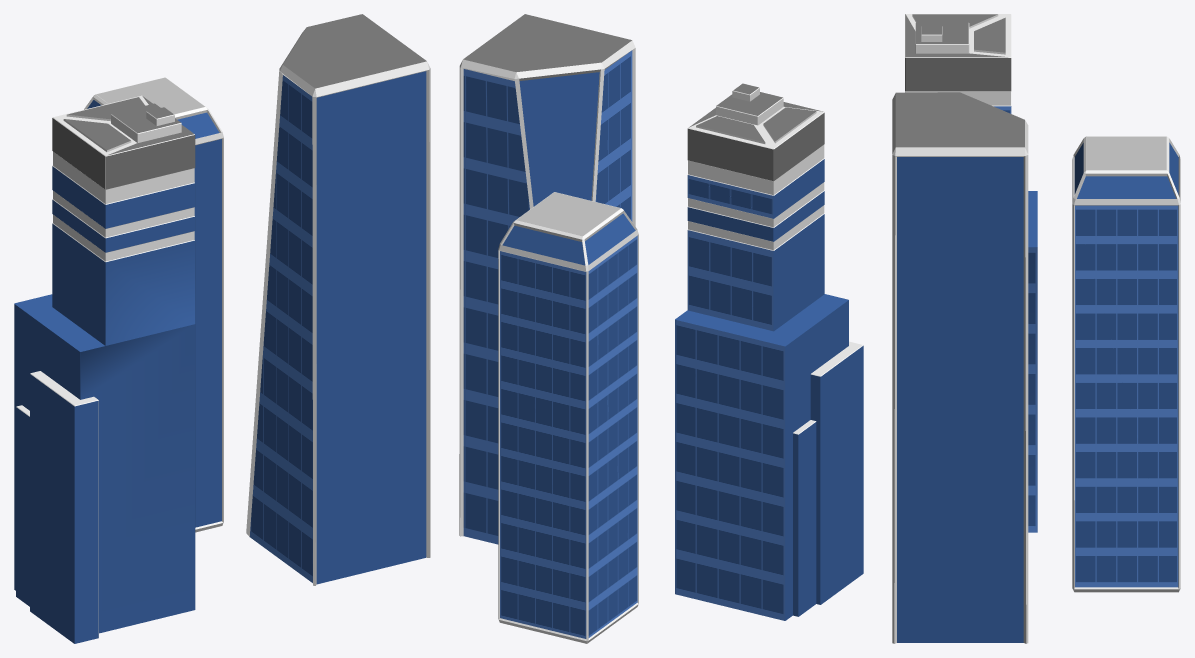
The model's file is Buildings.fbx.
3 renders of one model, left to right at view 1: azimuth 30°, elevation 25°; view 2: azimuth 150°, elevation 25°; view 3: azimuth 270°, elevation 25°, orthographic. The views are drawn at different scales.
Visible parts, largest first — view 1: Tower4, Tower1, Tower3; view 2: Tower1, Tower3, Tower4; view 3: Tower4, Tower3, Tower1.
Boxes of the visible parts, x1,y1,x2,y2 form: Tower4: (246,14,430,585); Tower1: (14,95,195,643); Tower3: (84,77,223,532); Tower1: (675,83,863,620); Tower3: (498,192,638,643); Tower4: (459,14,635,544); Tower4: (892,92,1028,643); Tower3: (1072,136,1180,592); Tower1: (905,14,1037,532).
Bounding box in the file's own units: 51.06 × 68.87 × 35.91.
